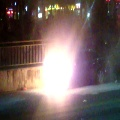fire: (35, 48, 72, 101)
